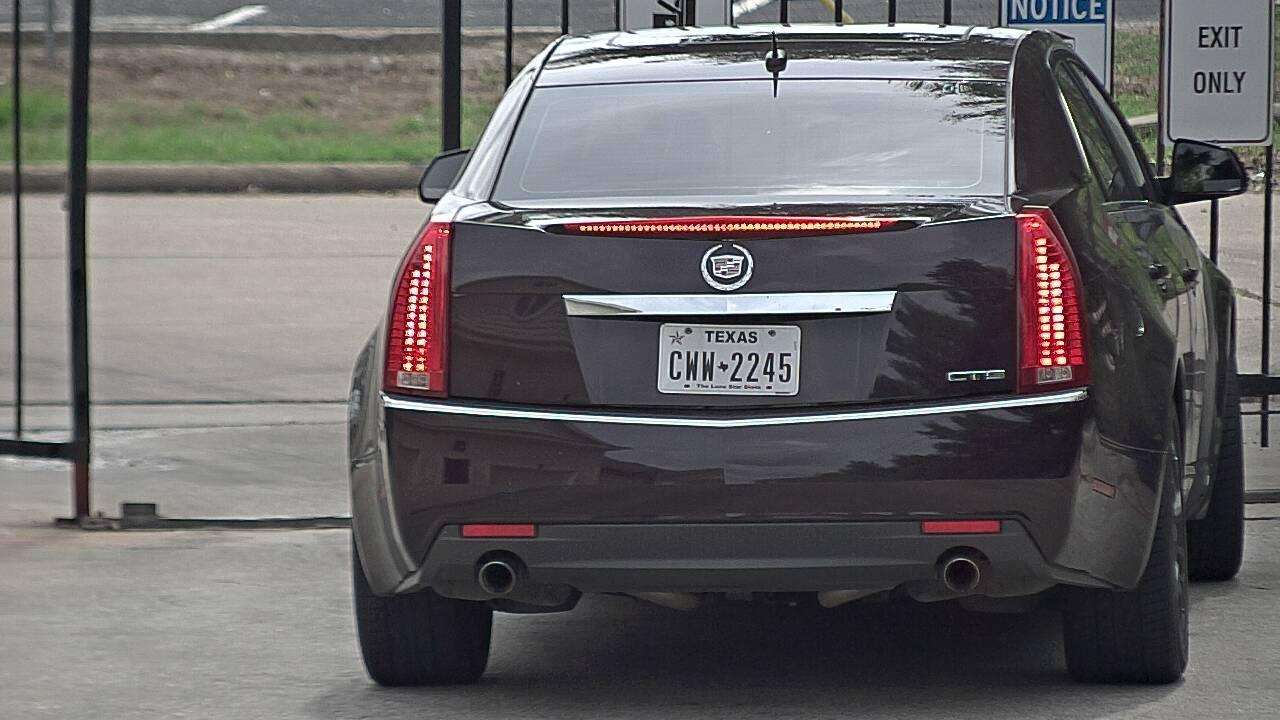placa de veiculo: (626, 283, 838, 431)
